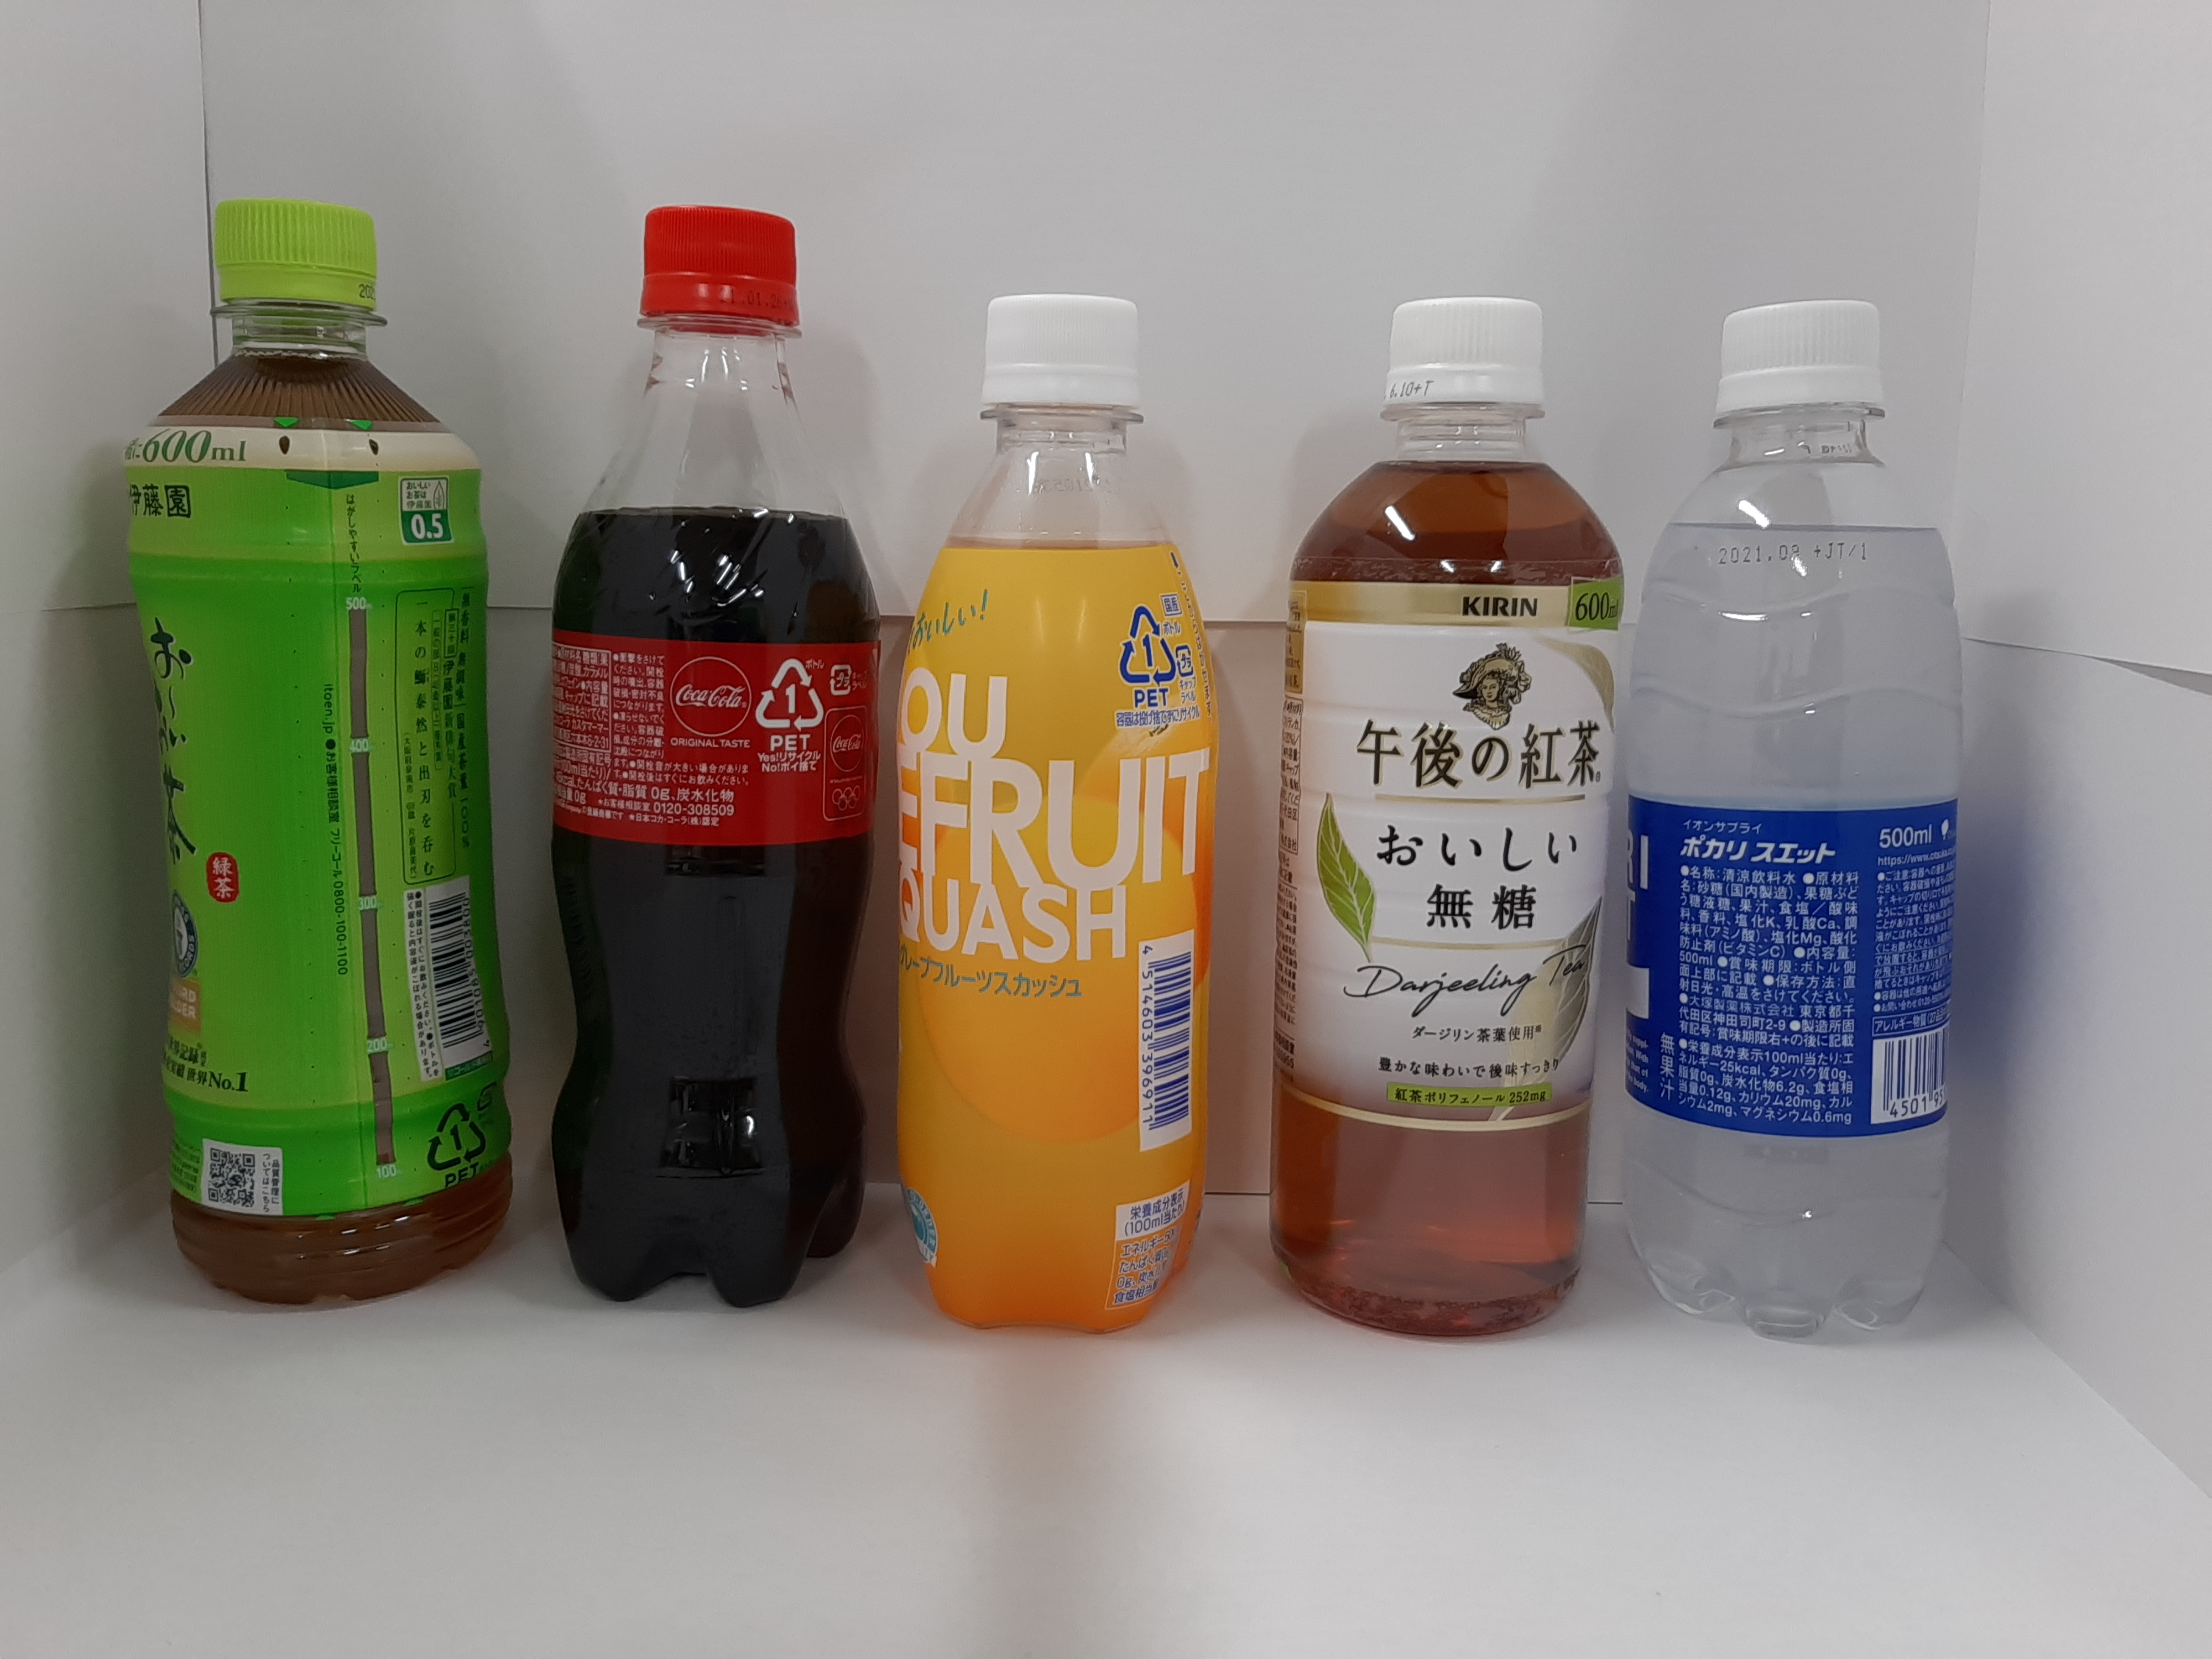おーいお茶: (84, 155, 531, 1331)
グレープフルーツスカッシュ: (874, 272, 1247, 1356)
コーラ: (526, 176, 895, 1337)
ポカリスエット: (1615, 282, 2001, 1356)
午後の紅茶: (1247, 275, 1634, 1364)
